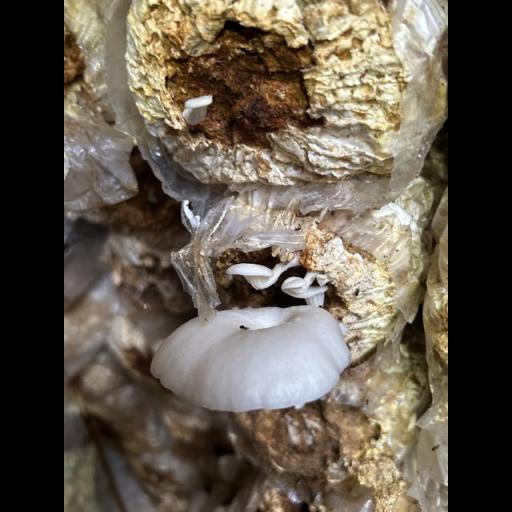White Oyster Mushroom: (154, 305, 348, 412)
